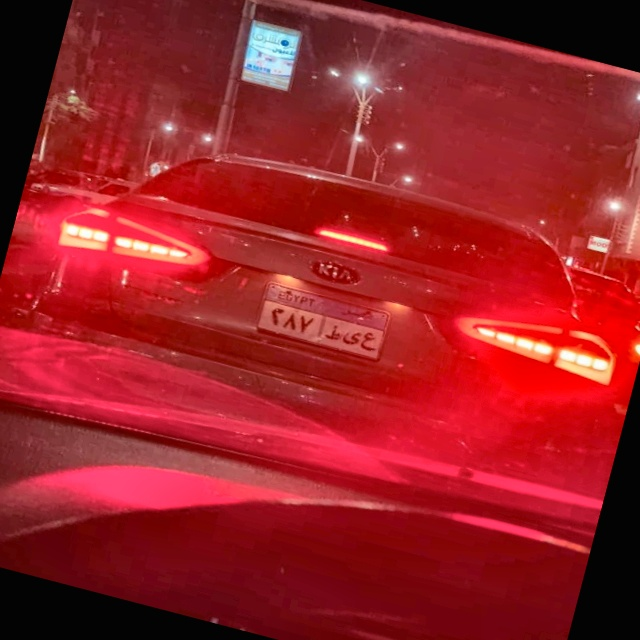License Plate: (251, 278, 396, 364)
